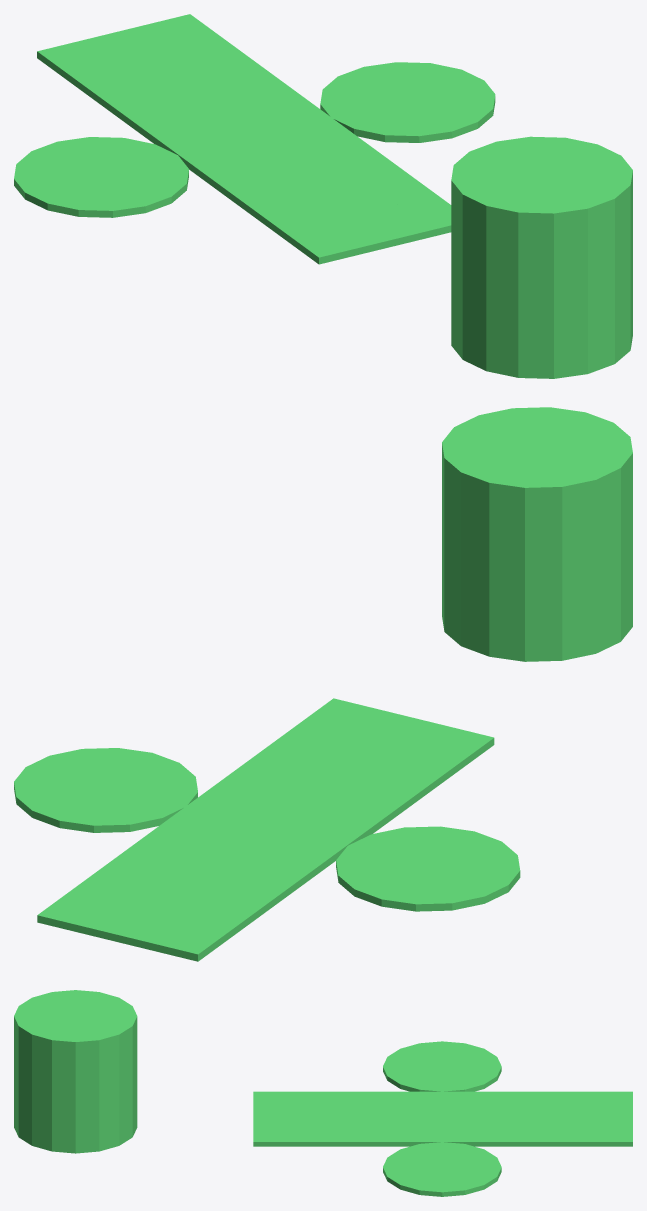
The model's file is Tabung.fbx.
The picture shows the model from 3 angles, top to bottom: view 1: azimuth 30°, elevation 25°; view 2: azimuth 150°, elevation 25°; view 3: azimuth 270°, elevation 25°; orthographic projection. The views are drawn at different scales.
Parts seen in each view (by area): view 1: Cylinder, Alas, Tutup, Sisi 16, Sisi 1, Sisi 6, Sisi 11, Sisi 14, Sisi 3, Sisi 12, Sisi 4, Sisi 13 (+7 smaller); view 2: Cylinder, Alas, Tutup, Sisi 1, Sisi 6, Sisi 11, Sisi 7, Sisi 2, Sisi 3, Sisi 13, Sisi 14, Sisi 4 (+7 smaller); view 3: Cylinder, Tutup, Alas, Sisi 11, Sisi 12, Sisi 4, Sisi 6, Sisi 13, Sisi 14, Sisi 1, Sisi 2, Sisi 3 (+7 smaller).
Part boxes in pixels (x1,y1,x2,y2): Cylinder: (451,136,632,378); Alas: (14,137,188,217); Tutup: (320,62,495,142); Sisi 16: (301,209,451,264); Sisi 1: (37,14,207,70); Sisi 6: (125,78,295,135); Sisi 11: (213,143,383,199); Sisi 14: (266,182,436,238); Sisi 3: (72,40,242,96); Sisi 12: (231,156,401,212); Sisi 4: (90,53,260,109); Sisi 13: (249,169,418,225); Cylinder: (442,407,632,661); Alas: (336,826,520,911); Tutup: (14,748,197,832); Sisi 1: (37,901,216,961); Sisi 6: (130,833,309,893); Sisi 11: (223,765,402,825); Sisi 7: (149,820,328,879); Sisi 2: (56,888,235,947); Sisi 3: (75,874,253,933); Sisi 13: (260,738,439,798); Sisi 14: (279,725,457,784); Sisi 4: (93,861,272,920); Cylinder: (14,990,137,1153); Tutup: (383,1142,501,1196); Alas: (383,1041,501,1091); Sisi 11: (371,1091,395,1146); Sisi 12: (347,1091,371,1146); Sisi 4: (537,1091,561,1146); Sisi 6: (490,1091,514,1146); Sisi 13: (324,1091,347,1146); Sisi 14: (300,1091,323,1146); Sisi 1: (609,1091,632,1146); Sisi 2: (585,1091,608,1146); Sisi 3: (561,1091,584,1146).
Bounding box in the file's own units: 601 × 207 × 1041.
